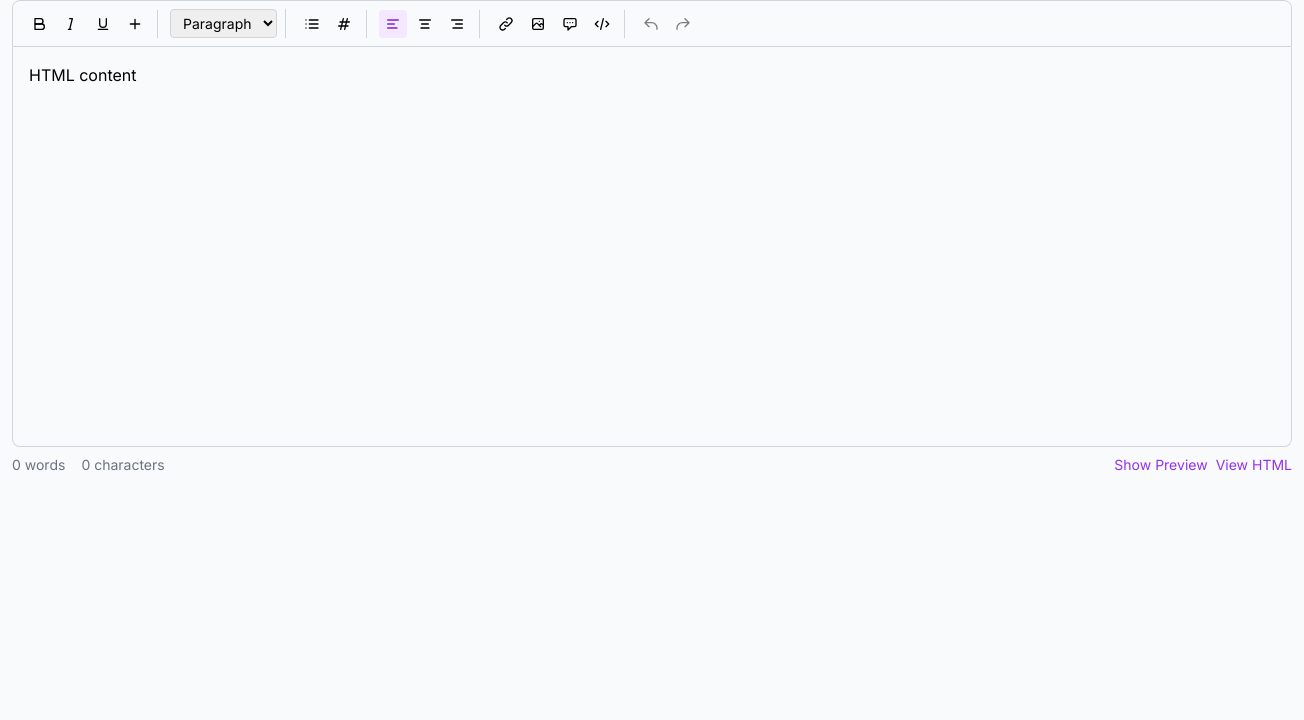
Scenario: RichTextEditor Component › toggles HTML view mode
The width and height of the screenshot is (1304, 720).
What coordinates should you click on to do the following:
click the button "View HTML"
I would click on:
 (1254, 465)
Its box is [1216,455,1292,475].
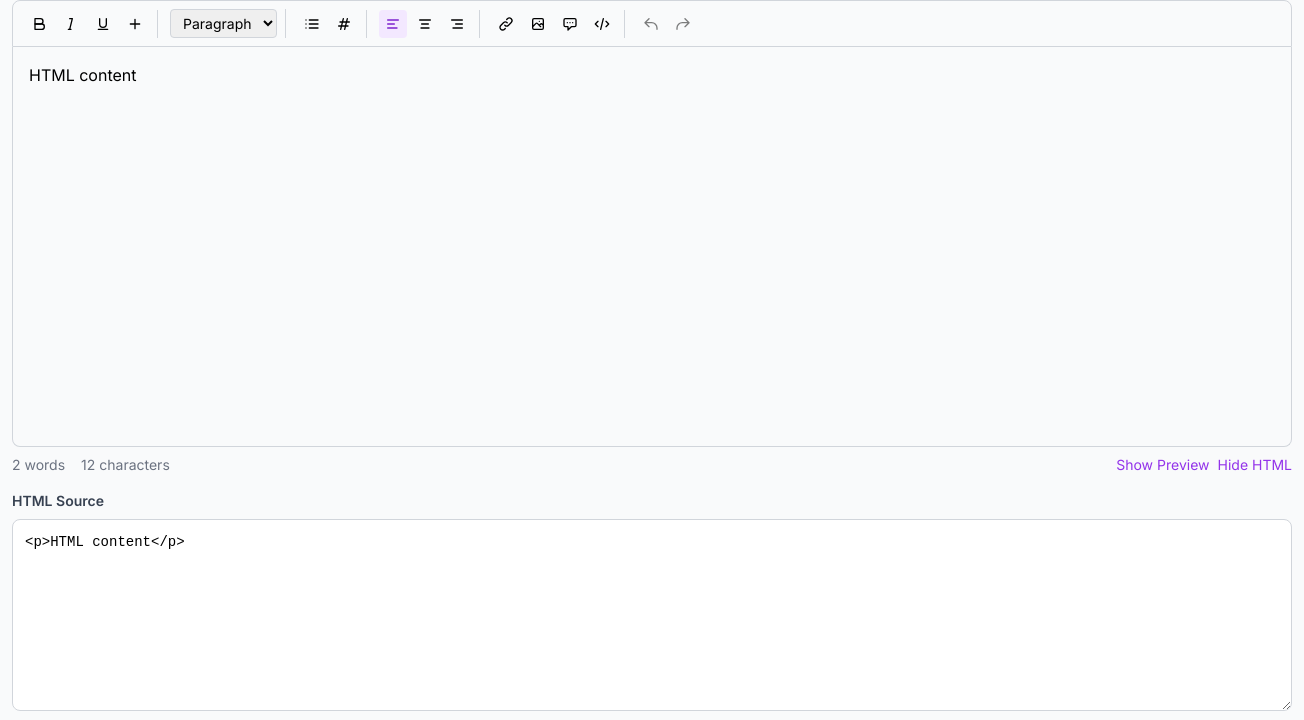
Check: the 2nd text box holds "<p>HTML content</p>", box [12,519,1292,711]
